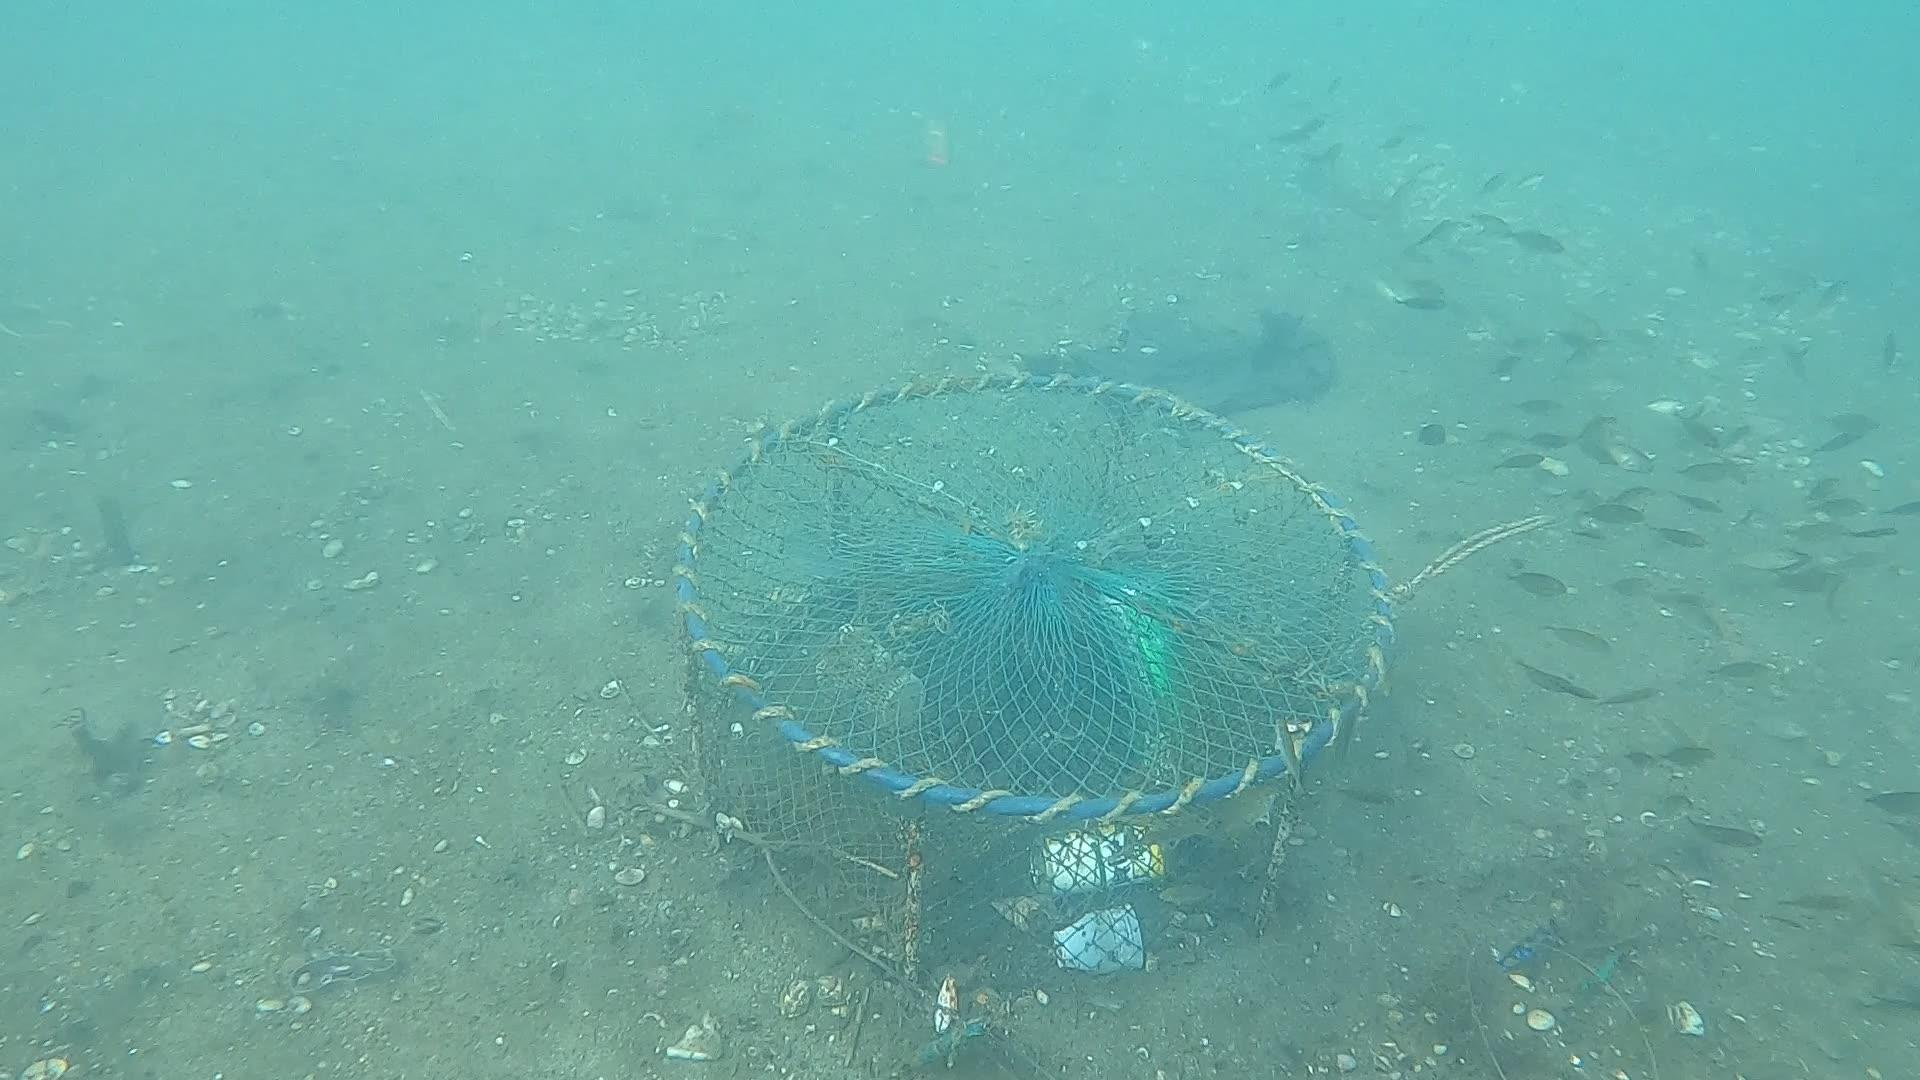bundle of ropes: (1403, 500, 1563, 616)
circular fish trap: (670, 365, 1400, 998)
